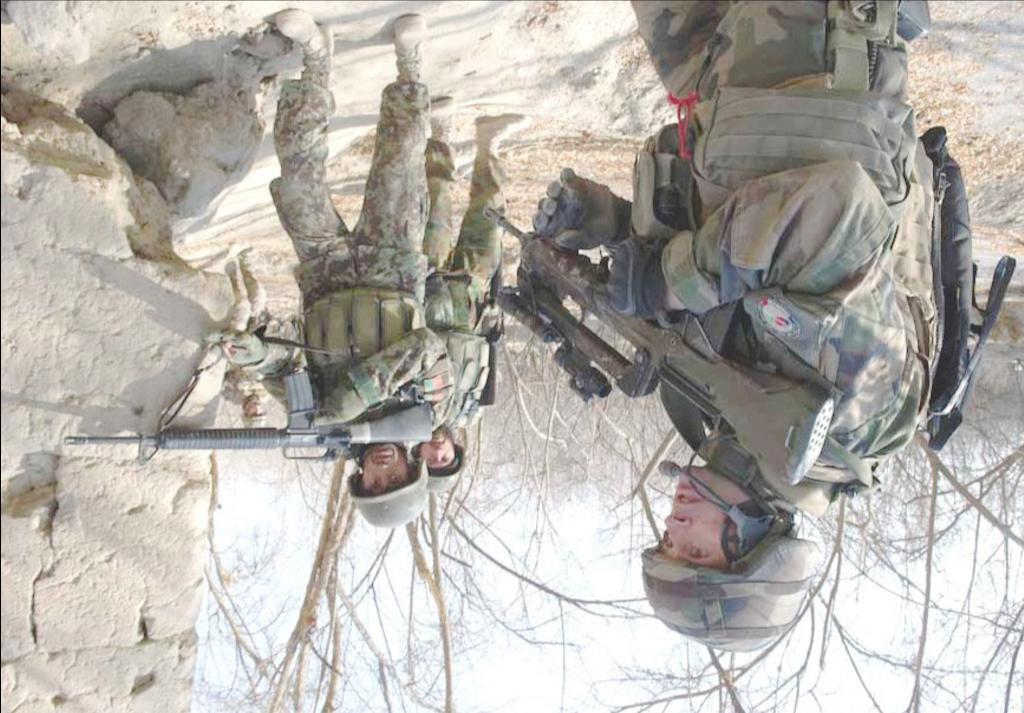gun: (480, 204, 831, 484), (63, 378, 440, 456)
